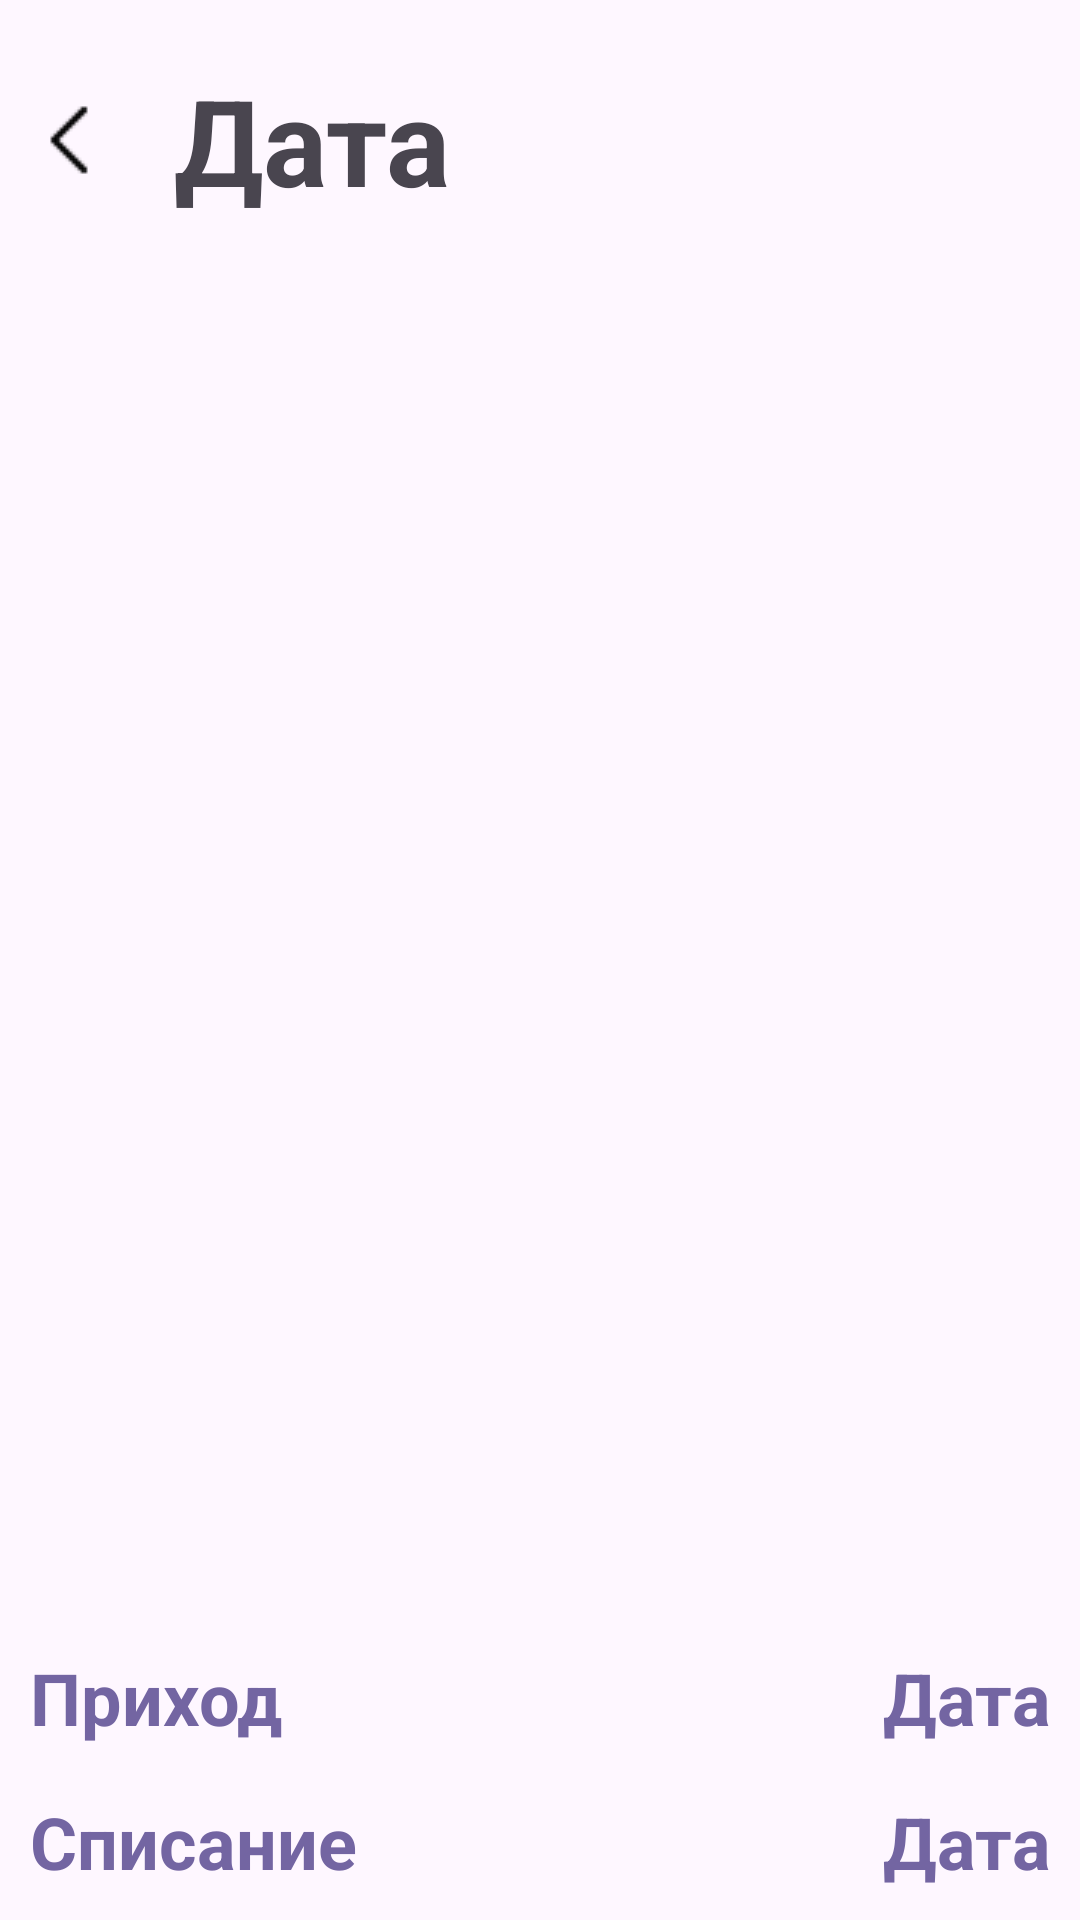

Icons on this 1080px×1920px Android screen, each with its box as (x1, y1, x2, y2):
back: (50, 106, 88, 174)
